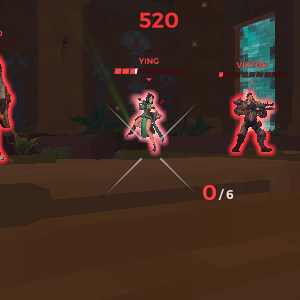model: (229, 88, 280, 160), (130, 86, 173, 157)
